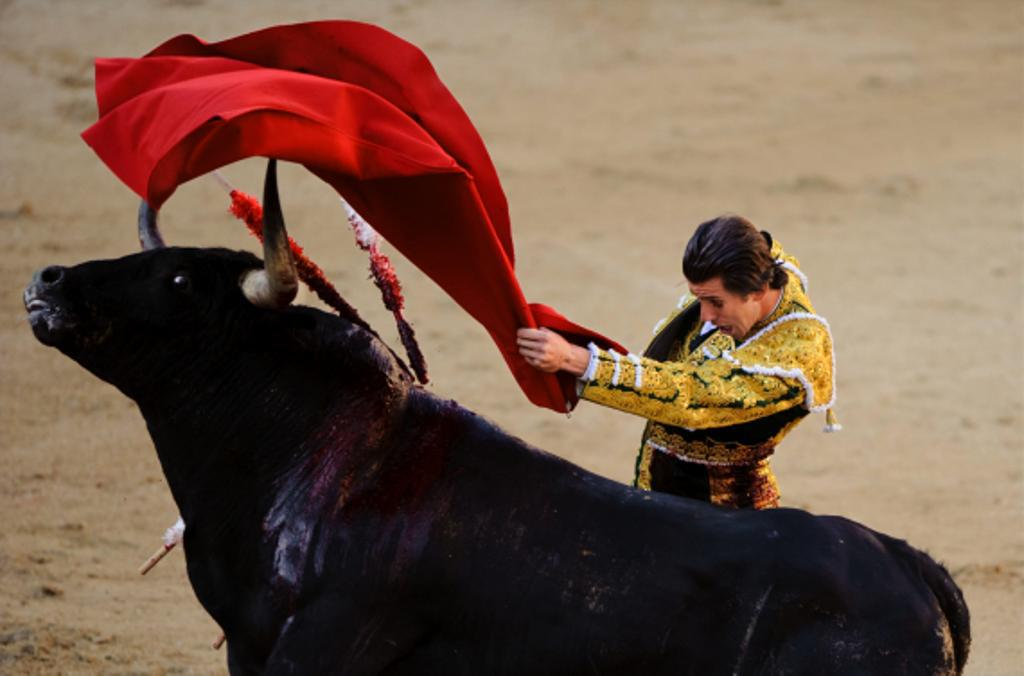face: (691, 279, 751, 341)
